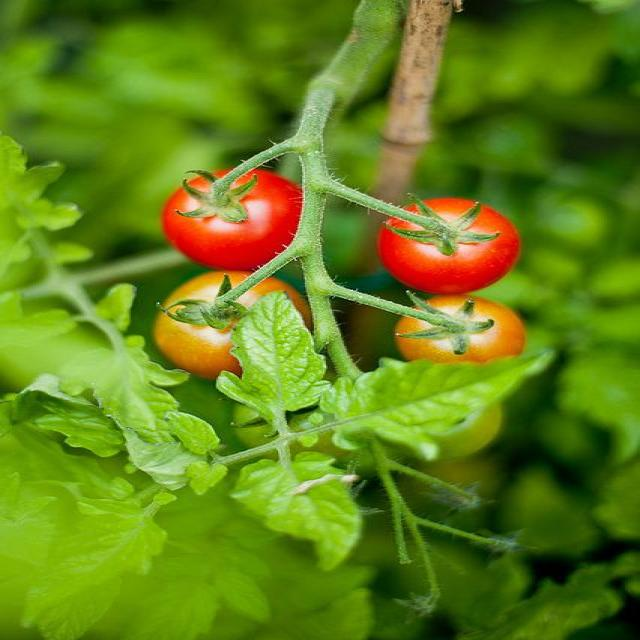level 2: (361, 366, 507, 463), (245, 370, 356, 464)
level 5: (153, 270, 306, 373), (397, 297, 524, 373)
level 6: (163, 168, 314, 270), (384, 196, 524, 296)
